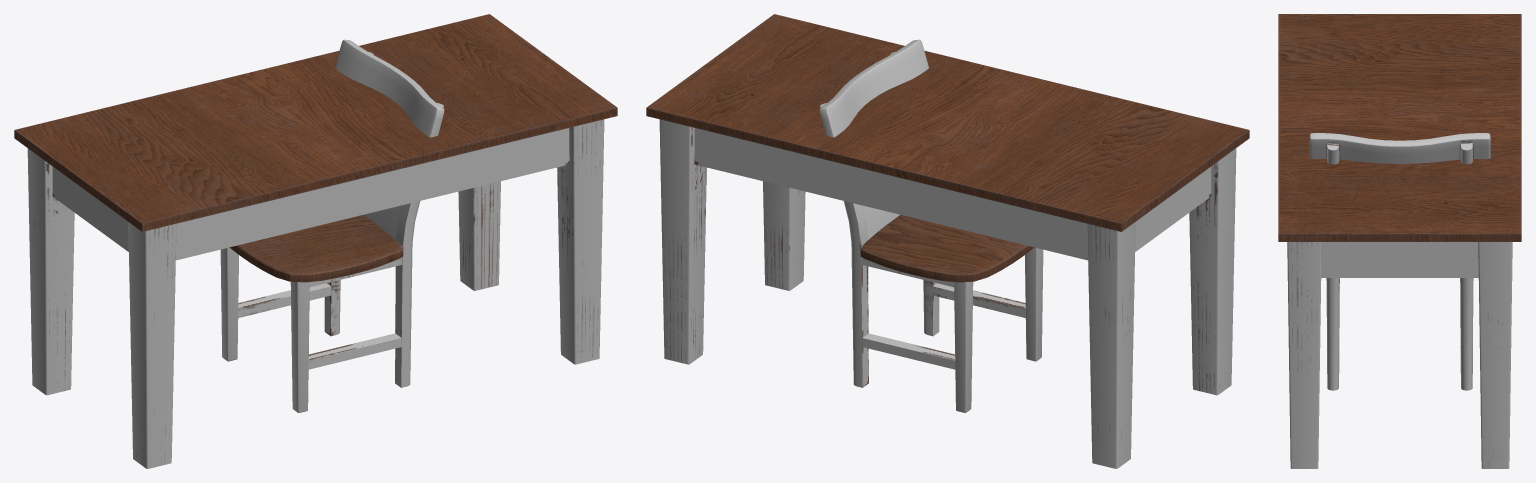
File: Table and Chair.fbx
3 views of the same model, side by side, from view 1: azimuth 30°, elevation 25°; view 2: azimuth 150°, elevation 25°; view 3: azimuth 270°, elevation 25° (orthographic). The views are drawn at different scales.
Visible parts, largest first — view 1: Table, Chair; view 2: Table, Chair; view 3: Table, Chair.
Part boxes in pixels (x1,y1,x2,y2): Table: (14, 14, 617, 468); Chair: (220, 39, 444, 412); Table: (646, 14, 1249, 468); Chair: (819, 39, 1043, 412); Table: (1278, 14, 1521, 468); Chair: (1309, 133, 1490, 390).
Bounding box in the file's own units: 600 × 338 × 280.
